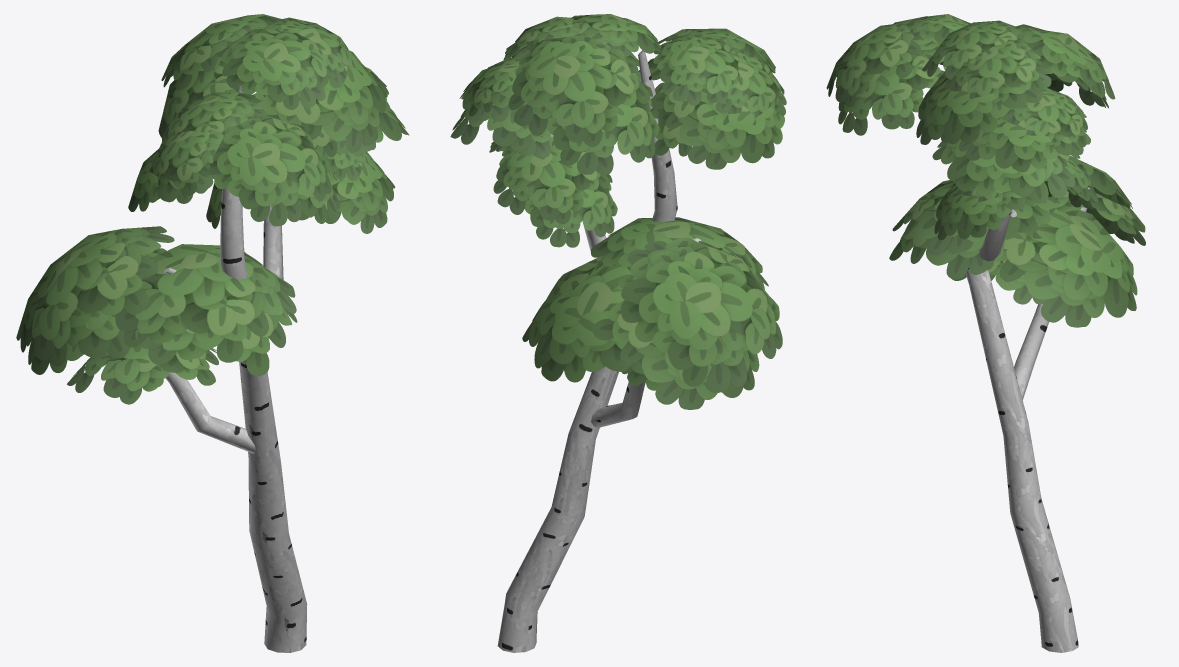
The model's file is birch_9.glb.
3 renders of one model, left to right at view 1: azimuth 30°, elevation 25°; view 2: azimuth 150°, elevation 25°; view 3: azimuth 270°, elevation 25°, orthographic. The views are drawn at different scales.
Visible parts, largest first — view 1: Birch_9; view 2: Birch_9; view 3: Birch_9.
Boxes of the visible parts, left/top/right/bottom form: Birch_9: left=16, top=14, right=409, bottom=652; Birch_9: left=450, top=14, right=786, bottom=652; Birch_9: left=826, top=14, right=1145, bottom=652.
Size of the model in its own units: 5.21 by 9.05 by 4.7.
2 materials, 2 textured.
